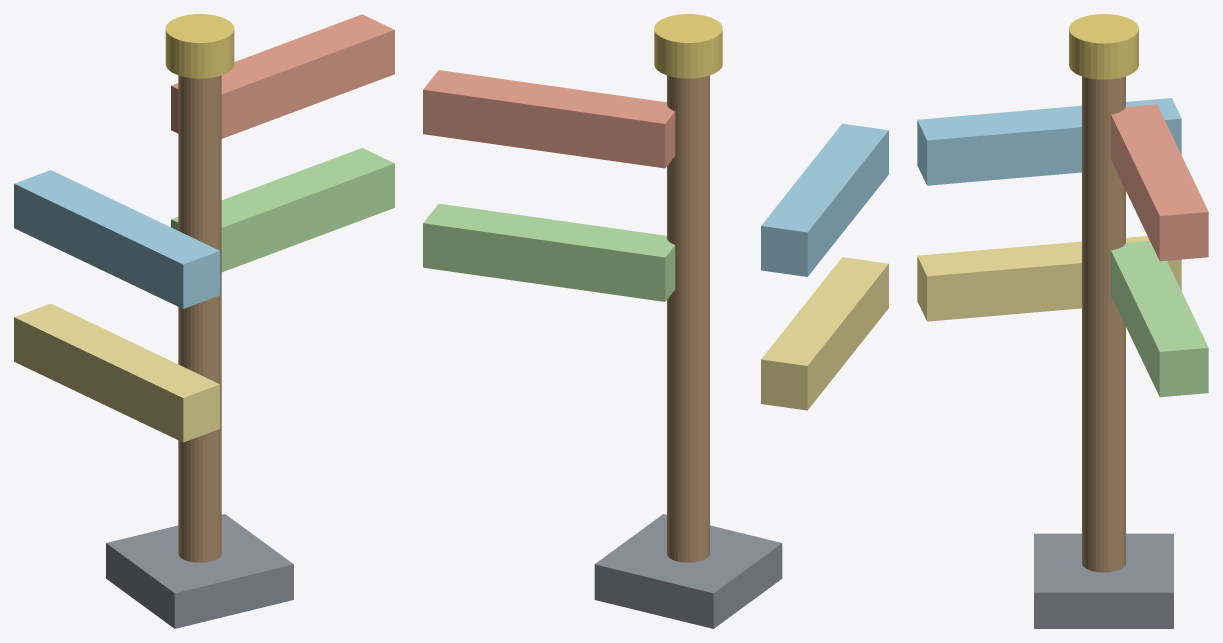
Rendered from directory_signpost.glb.
3 views of the same model, side by side, from view 1: azimuth 30°, elevation 25°; view 2: azimuth 150°, elevation 25°; view 3: azimuth 270°, elevation 25° (orthographic).
Visible parts, largest first — view 1: SignPost, Arm_3, Arm_1, SignFoot, Arm_0, Arm_2, SignFinial; view 2: SignPost, Arm_0, Arm_2, SignFoot, Arm_1, Arm_3, SignFinial; view 3: SignPost, Arm_1, SignFoot, Arm_3, Arm_0, Arm_2, SignFinial.
Boxes of the visible parts, box(x1,y1,x2,y2) form: SignPost: box(178, 75, 221, 562); Arm_3: box(14, 303, 219, 442); Arm_1: box(14, 170, 219, 308); SignFoot: box(106, 514, 293, 628); Arm_0: box(171, 14, 394, 138); Arm_2: box(171, 148, 394, 272); SignFinial: box(165, 14, 234, 78); SignPost: box(667, 75, 709, 562); Arm_0: box(423, 70, 675, 168); Arm_2: box(423, 203, 675, 301); SignFoot: box(594, 514, 782, 628); Arm_1: box(761, 123, 888, 276); Arm_3: box(761, 257, 888, 410); SignFinial: box(654, 14, 722, 78); SignPost: box(1082, 76, 1125, 572); Arm_1: box(917, 98, 1181, 185); SignFoot: box(1034, 533, 1173, 628); Arm_3: box(917, 236, 1181, 321); Arm_0: box(1111, 104, 1208, 261); Arm_2: box(1111, 241, 1208, 397); SignFinial: box(1069, 14, 1138, 79).
Size of the model in its own units: 4.41 by 6.3 by 2.92.
